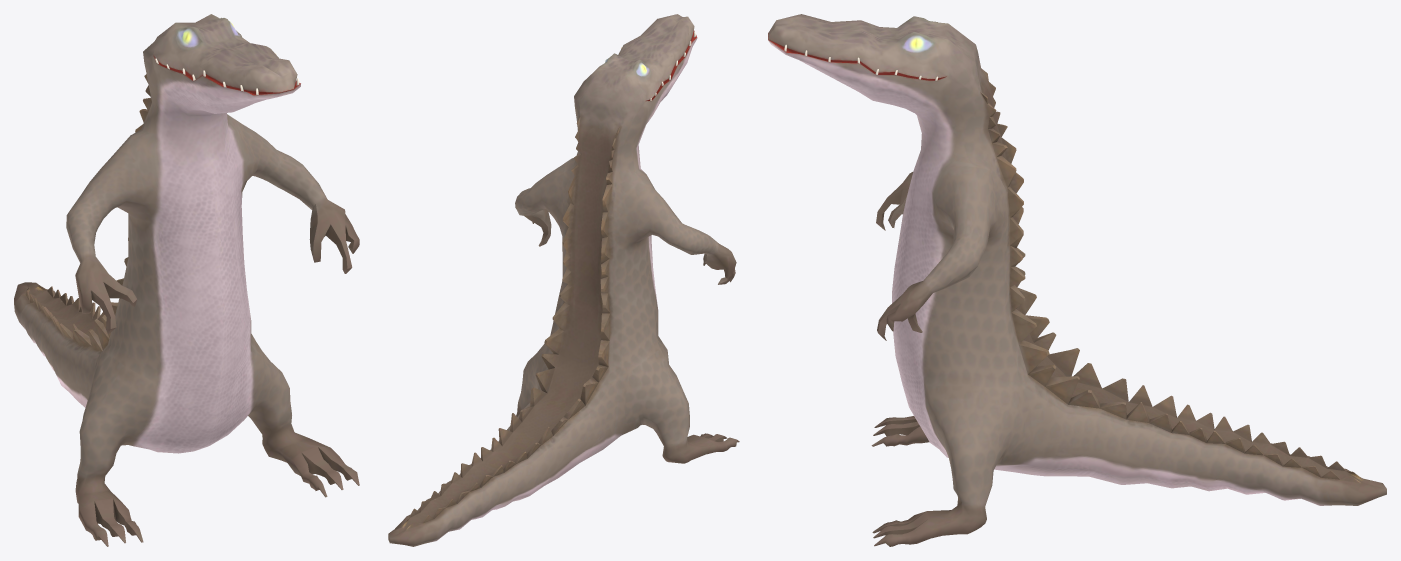
The model's file is gator_anim.glb.
3 renders of one model, left to right at view 1: azimuth 30°, elevation 25°; view 2: azimuth 150°, elevation 25°; view 3: azimuth 270°, elevation 25°, orthographic. The views are drawn at different scales.
Visible parts, largest first — view 1: gator; view 2: gator; view 3: gator.
Boxes of the visible parts, <box> form: gator: <box>14,14,359,546</box>; gator: <box>388,14,739,546</box>; gator: <box>768,14,1386,546</box>.
Size of the model in its own units: 45.36 by 77.97 by 93.46.
1 material, 1 textured.
